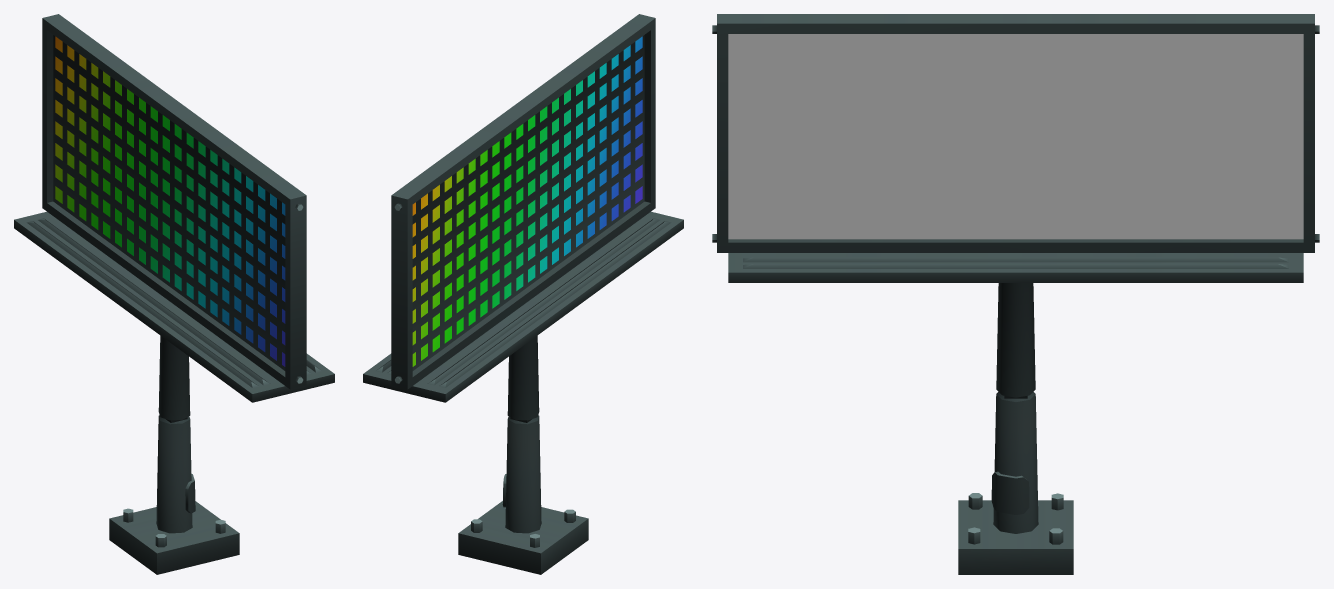
File: Billboard_2A.fbx
3 renders of one model, left to right at view 1: azimuth 30°, elevation 25°; view 2: azimuth 150°, elevation 25°; view 3: azimuth 270°, elevation 25°, orthographic. The views are drawn at different scales.
Parts seen in each view (by area): view 1: Billboard_2A, Billboard_2A_Image.L; view 2: Billboard_2A, Billboard_2A_Image.L; view 3: Billboard_2A_Image.R, Billboard_2A.
Part boxes in pixels (x1,y1,x2,y2): Billboard_2A: (14,14,334,574); Billboard_2A_Image.L: (55,36,285,366); Billboard_2A: (363,14,683,574); Billboard_2A_Image.L: (412,36,642,366); Billboard_2A_Image.R: (728,34,1303,239); Billboard_2A: (712,14,1319,574).
Bounding box in the file's own units: 2 × 10.2 × 10.56.
